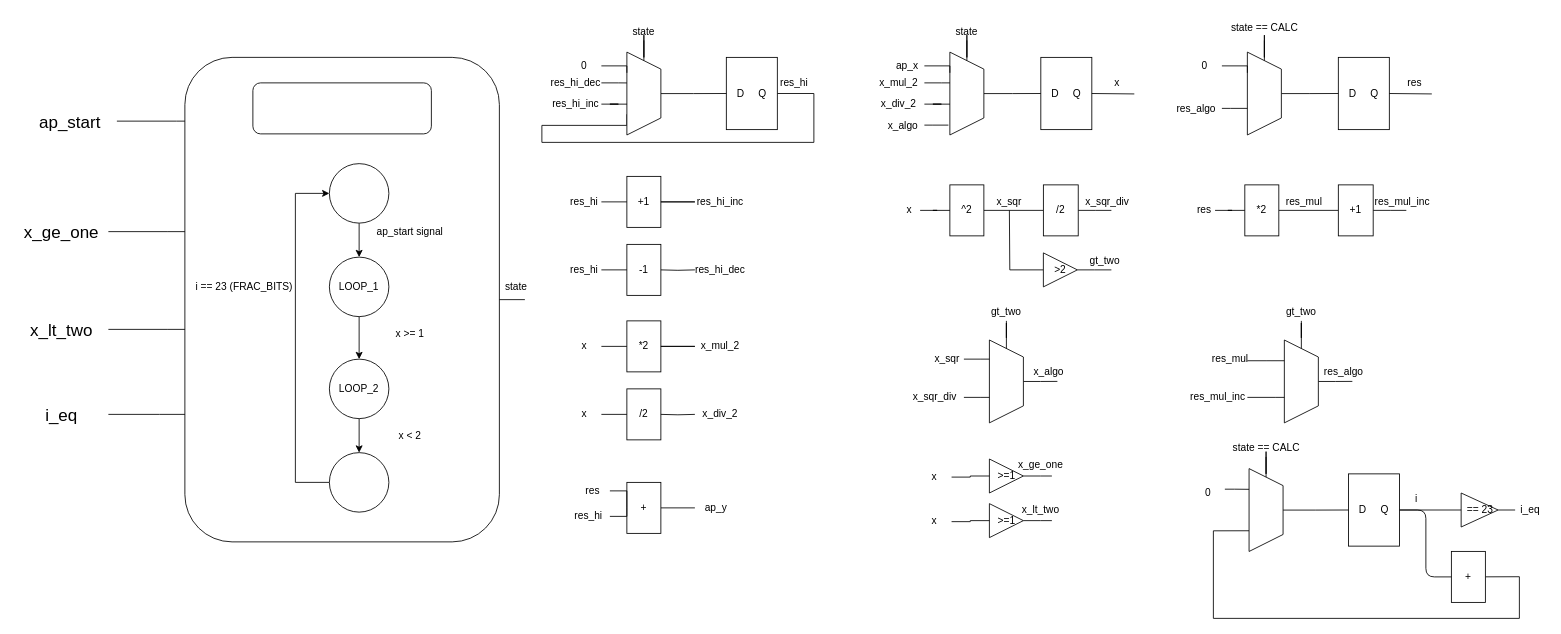
The diagram is 1561 pixels wide and 634 high, and some of its shapes have lost their labels. The shapes that lost their labels are listed below. From the top down, each one's centre as x and y in pixels, then its label:
At point 341,108: "State machine (END, LOOP_1, LOOP_2, CALC)".
At point 359,193: "END".
At point 359,482: "CALC".
